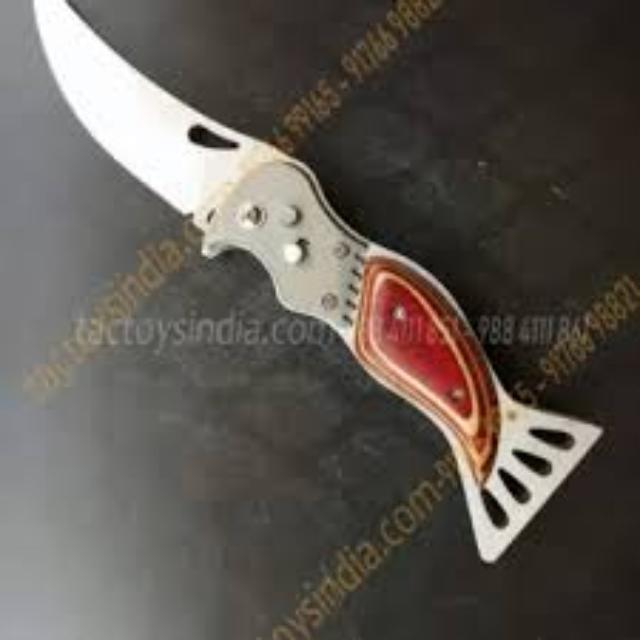knife: (29, 1, 603, 564)
